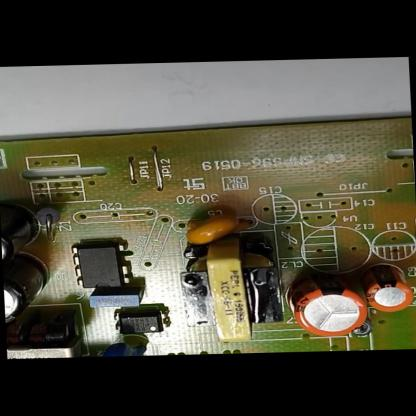Cap1: (291, 277, 367, 337)
Cap2: (364, 264, 411, 314)
Cap3: (3, 271, 47, 326)
Cap4: (0, 205, 42, 261)
MOSFET: (72, 240, 133, 289)
Mov: (96, 340, 143, 356)
Transformer: (183, 253, 285, 344), (5, 318, 77, 359)
